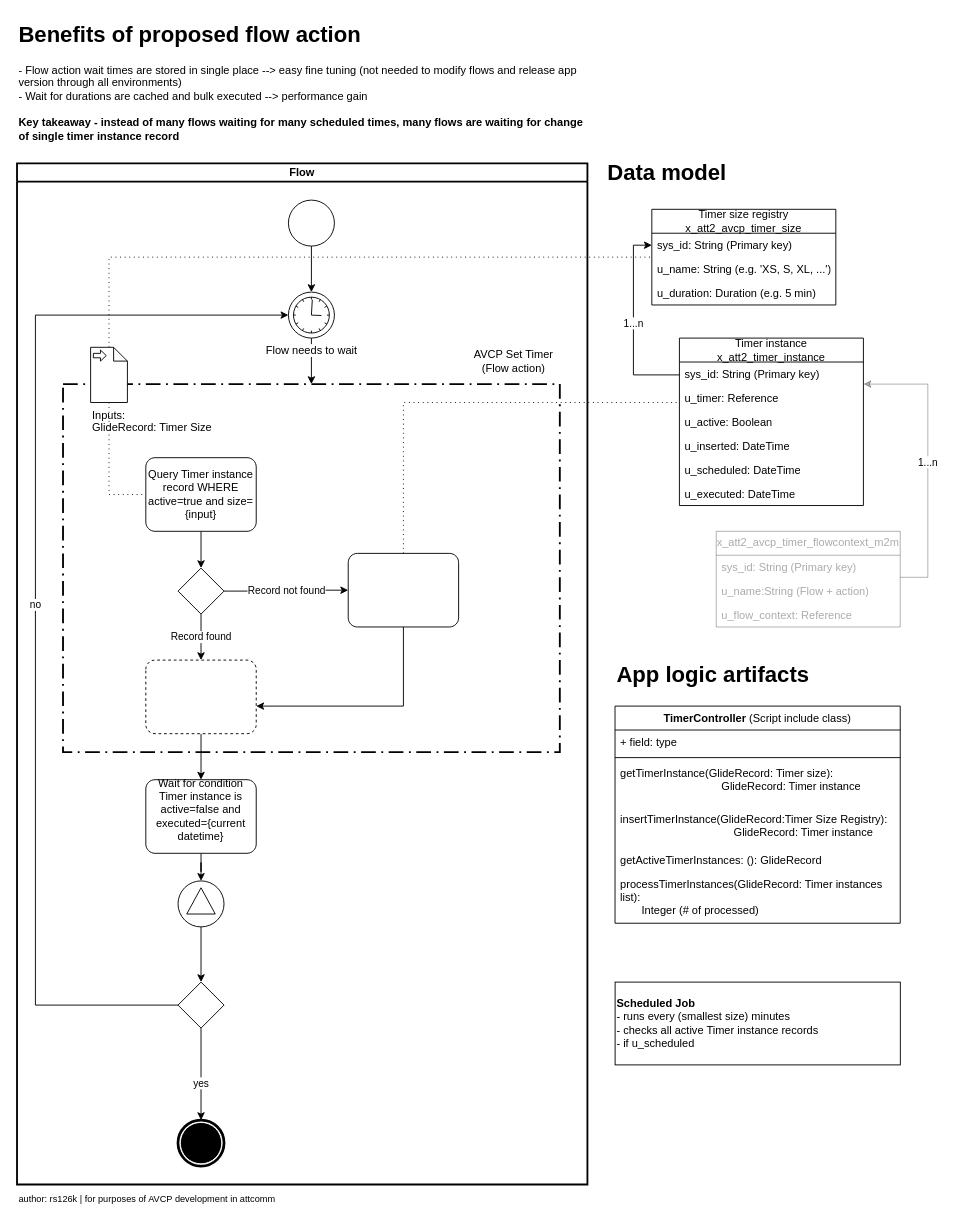
Image size: 953x1227. Some labels were removed from this diagram. The shapes that lost their labels are listed below. From the top down, each one's centre as x and y in pixels, then its label:
At (311,222): "Trigger flow".
At (403,589): "Insert new Timer instance GlideRecord".
At (200,696): "Store record as flow variable and listen for change".
At (200,903): "Timer instance record updates (active=false, executed=nonempty)".
At (200,1004): "Validation - can the flow continue?".
